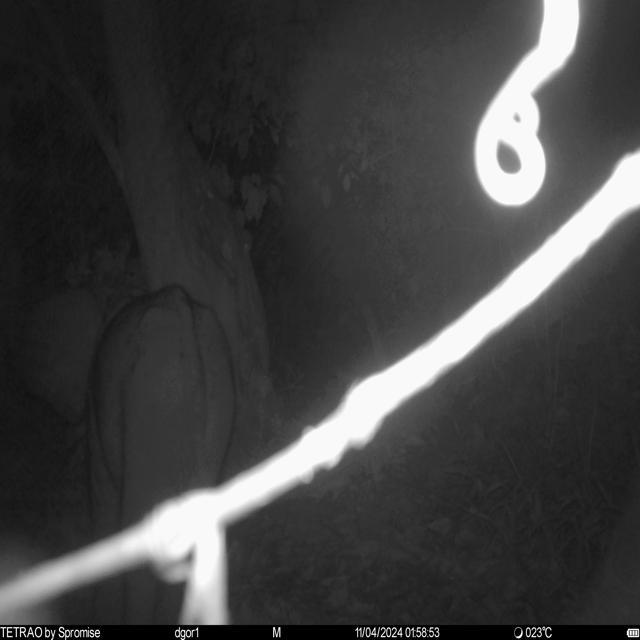calf: (9, 286, 239, 624)
ear: (11, 286, 110, 426)
